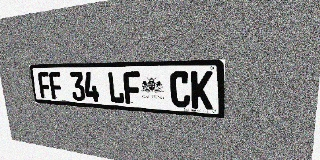3: (70, 72, 86, 101)
4: (83, 72, 100, 102)
C: (170, 71, 191, 108)
F: (123, 72, 142, 105), (48, 72, 64, 100), (37, 72, 52, 99)
K: (191, 71, 213, 110)
L: (107, 72, 125, 104)
